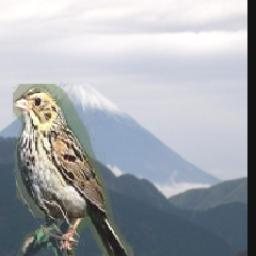Sparrow: (14, 84, 134, 256)
